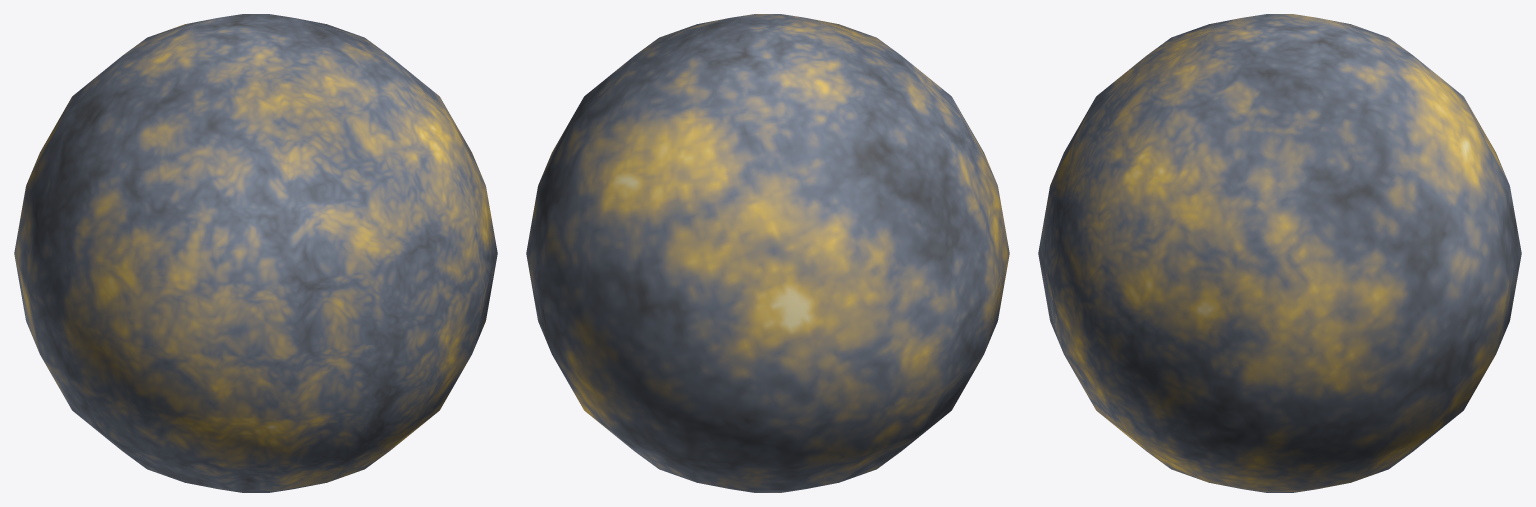
File: Planet_Mercury.fbx
The picture shows the model from 3 angles, left to right: view 1: azimuth 30°, elevation 25°; view 2: azimuth 150°, elevation 25°; view 3: azimuth 270°, elevation 25°; orthographic projection.
Visible parts, largest first — view 1: Planet_Mercury; view 2: Planet_Mercury; view 3: Planet_Mercury.
Boxes of the visible parts, box(x1,y1,x2,y2) form: Planet_Mercury: box(14, 14, 497, 492); Planet_Mercury: box(526, 14, 1009, 492); Planet_Mercury: box(1038, 14, 1521, 492).
Size of the model in its own units: 197 by 200 by 200.
